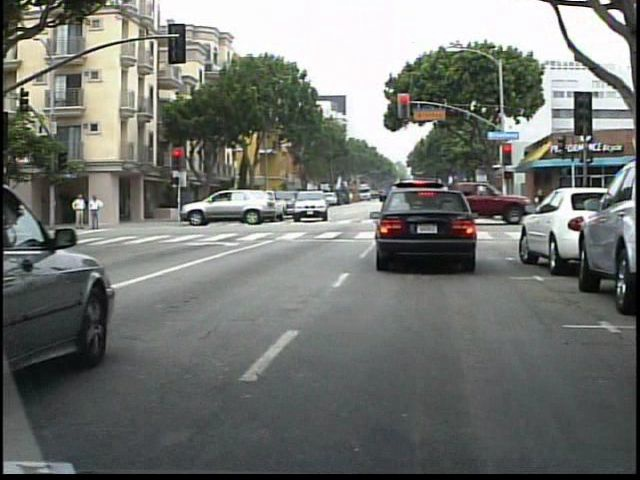person: (67, 190, 84, 233), (84, 191, 100, 232)
